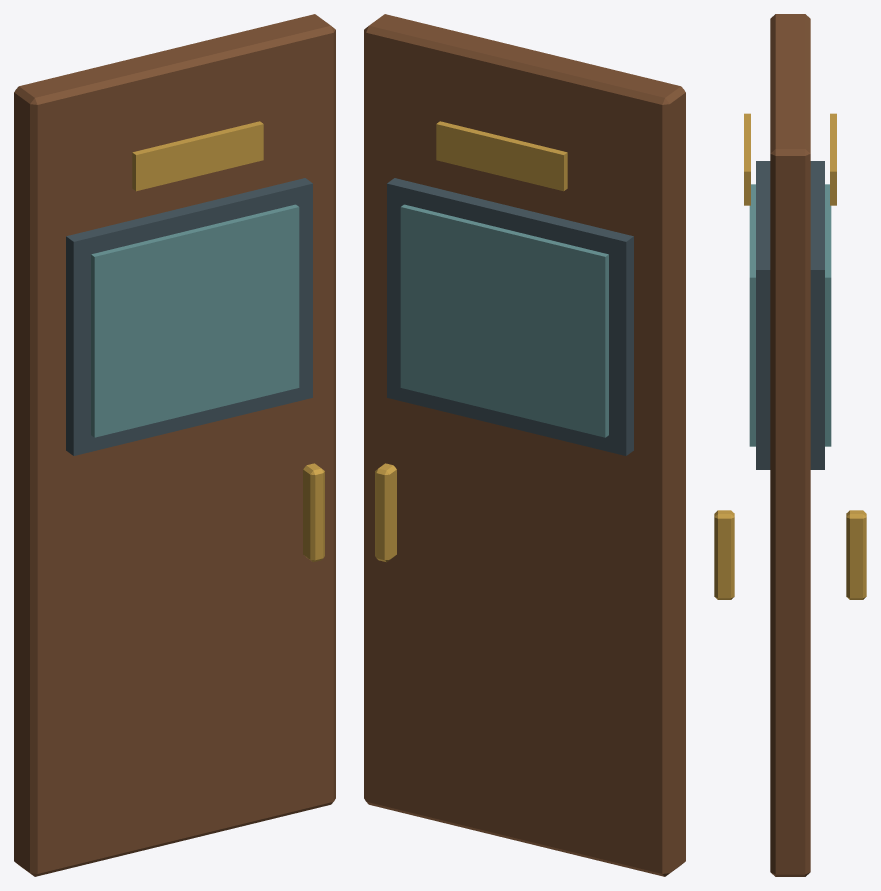
File: door_school_classroom.glb
3 views of the same model, side by side, from view 1: azimuth 30°, elevation 25°; view 2: azimuth 150°, elevation 25°; view 3: azimuth 270°, elevation 25° (orthographic). The views are drawn at different scales.
Parts seen in each view (by area): view 1: door_school_classroom; view 2: door_school_classroom; view 3: door_school_classroom.
Part boxes in pixels (<box>): door_school_classroom: <box>14,14,335,876</box>; door_school_classroom: <box>364,14,685,876</box>; door_school_classroom: <box>714,14,866,876</box>.
Bounding box in the file's own units: 1.15 × 2.8 × 0.53.
